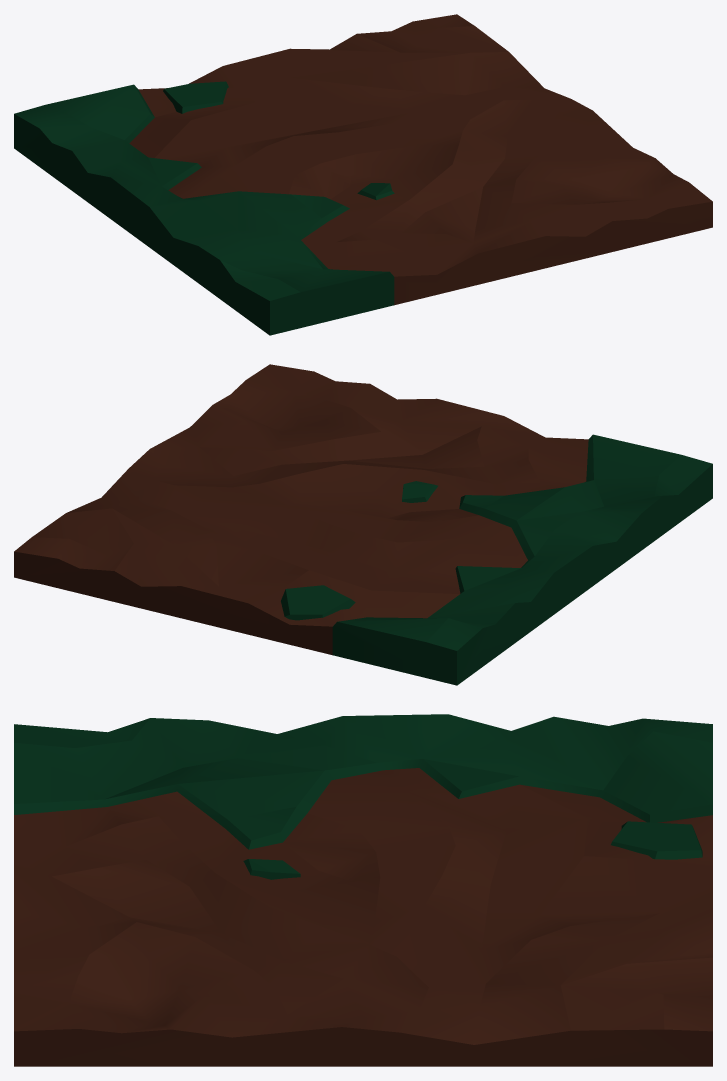
The model's file is Ground_Edge_L.fbx.
The picture shows the model from 3 angles, top to bottom: view 1: azimuth 30°, elevation 25°; view 2: azimuth 150°, elevation 25°; view 3: azimuth 270°, elevation 25°; orthographic projection. The views are drawn at different scales.
Parts seen in each view (by area): view 1: Ground_Edge_L; view 2: Ground_Edge_L; view 3: Ground_Edge_L.
Part boxes in pixels (x1,y1,x2,y2): Ground_Edge_L: [14, 14, 712, 335]; Ground_Edge_L: [14, 364, 712, 685]; Ground_Edge_L: [14, 714, 712, 1066].
Bounding box in the file's own units: 147 × 13.97 × 147.
